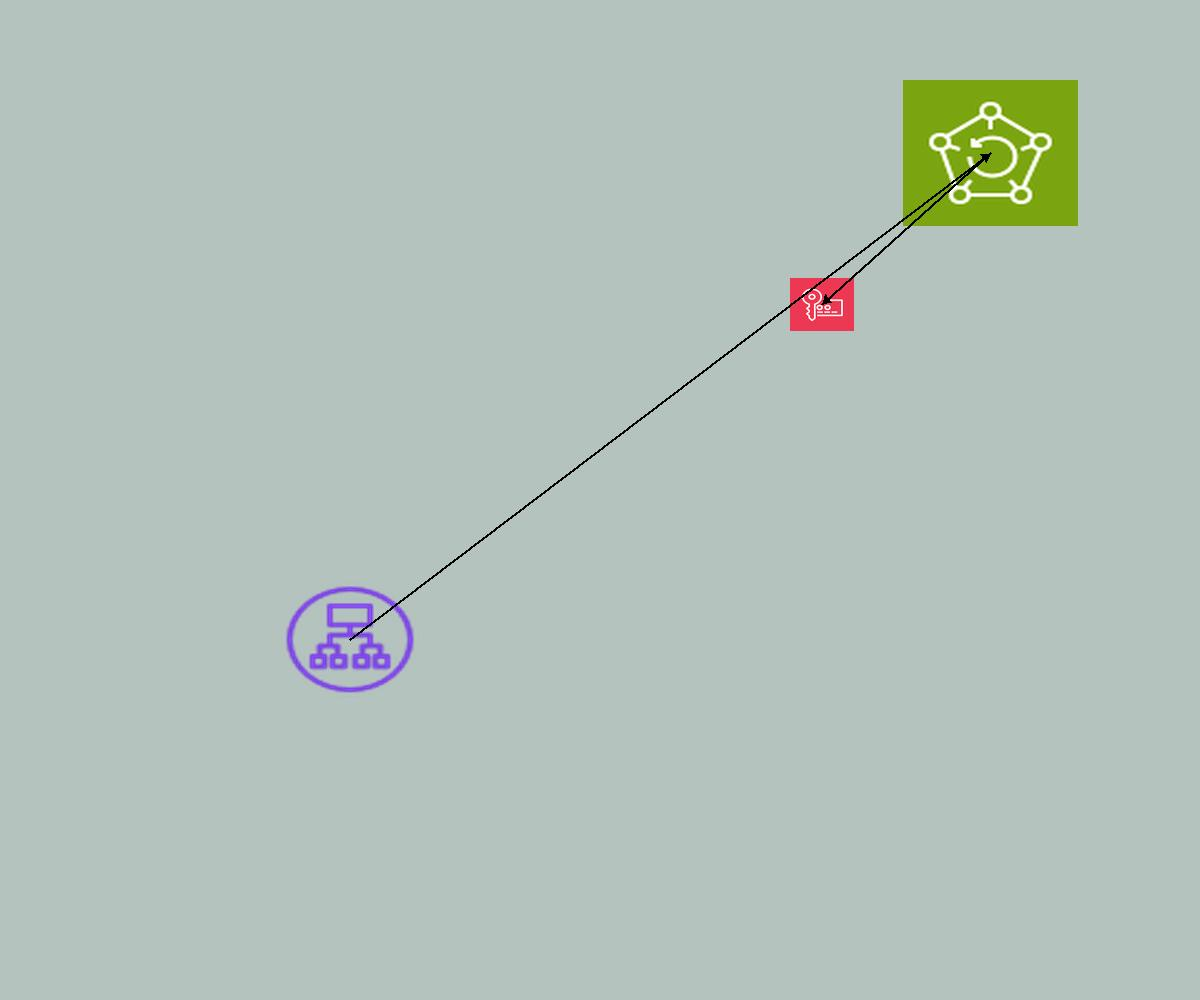AWS-Backup: (903, 80, 1078, 226)
AWS-Key-Management-Service: (790, 278, 854, 331)
AWS-Res_Elastic-Load-Balancing_Application-Load-Balancer: (281, 582, 419, 697)
